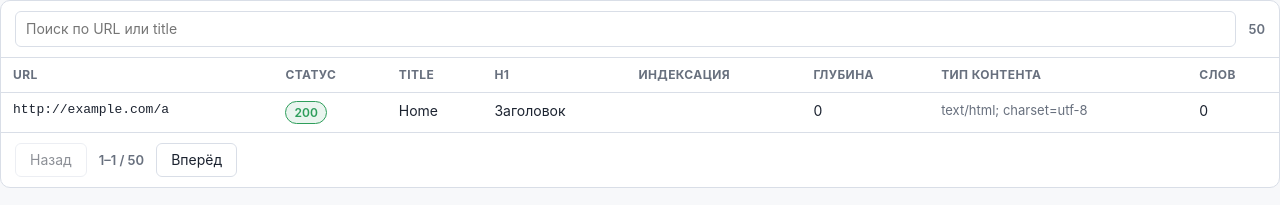
Test: ResultsTable › пагинация: кнопки disabled на границах, next двигает pageOffset и грузит страницу
Expected: the button with test id "prev-page" is disabled, x1=15 y1=143 x2=87 y2=177
What coordinates should you click on to do the following:
click the button with test id "next-page"
I would click on:
 (197, 160)
Its box is x1=156 y1=143 x2=237 y2=177.
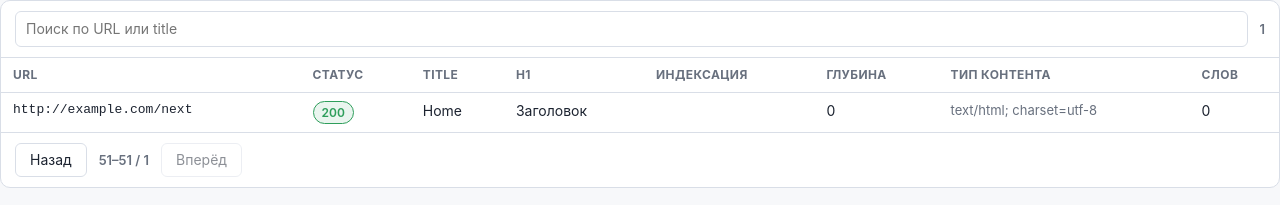
Expected: the button with test id "prev-page" is enabled, x1=15 y1=143 x2=87 y2=177
